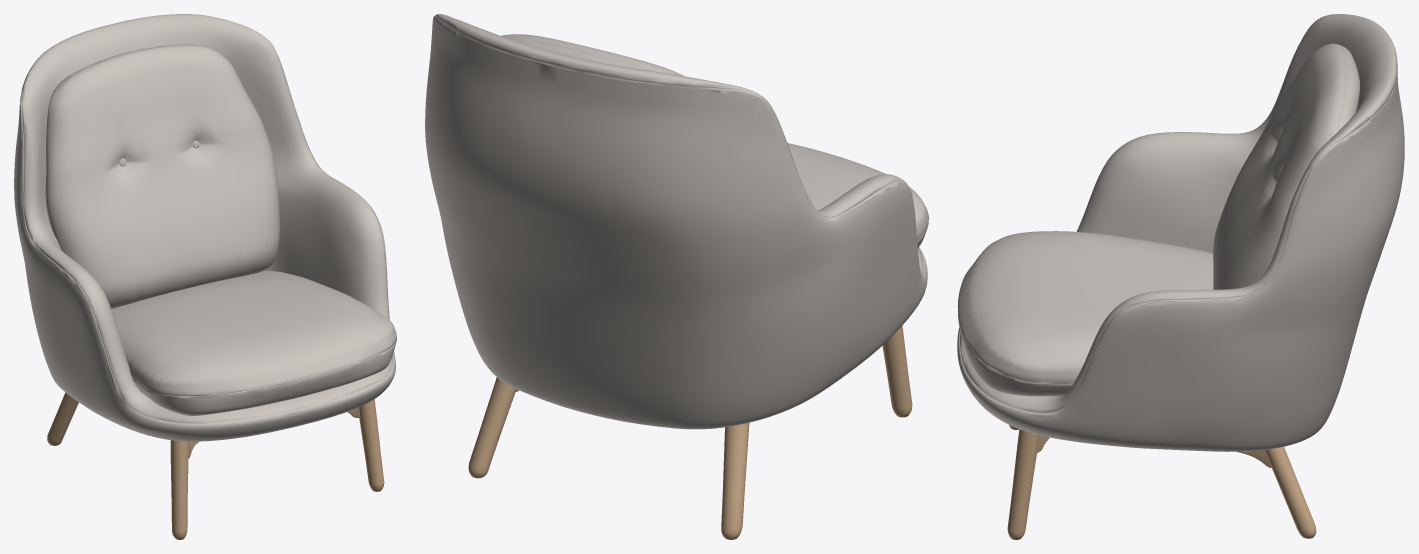
Rendered from Furniture_Chairs-Stools-Benches_Fritz-Hansen_FriT-JH5.fbx.
3 renders of one model, left to right at view 1: azimuth 30°, elevation 25°; view 2: azimuth 150°, elevation 25°; view 3: azimuth 270°, elevation 25°, orthographic. The views are drawn at different scales.
Visible parts, largest first — view 1: L_9fd0929b_cdbd_487e_abf8_d2363f502fa5_I3, L_c6a61b16_46f8_4edf_bbbb_90fc4b942664_I5, L_354efbe4_8bc5_49fc_a93b_d44e2bf587e4_I1, L_b5cb5176_5f5f_49d2_ba3b_dbee73c6712c_I4; view 2: L_9fd0929b_cdbd_487e_abf8_d2363f502fa5_I3, L_b5cb5176_5f5f_49d2_ba3b_dbee73c6712c_I4, L_354efbe4_8bc5_49fc_a93b_d44e2bf587e4_I1, L_c6a61b16_46f8_4edf_bbbb_90fc4b942664_I5; view 3: L_9fd0929b_cdbd_487e_abf8_d2363f502fa5_I3, L_354efbe4_8bc5_49fc_a93b_d44e2bf587e4_I1, L_c6a61b16_46f8_4edf_bbbb_90fc4b942664_I5, L_b5cb5176_5f5f_49d2_ba3b_dbee73c6712c_I4.
Part boxes in pixels (<box>): L_9fd0929b_cdbd_487e_abf8_d2363f502fa5_I3: <box>14,14,395,441</box>; L_c6a61b16_46f8_4edf_bbbb_90fc4b942664_I5: <box>45,44,279,308</box>; L_354efbe4_8bc5_49fc_a93b_d44e2bf587e4_I1: <box>111,270,396,415</box>; L_b5cb5176_5f5f_49d2_ba3b_dbee73c6712c_I4: <box>47,392,384,539</box>; L_9fd0929b_cdbd_487e_abf8_d2363f502fa5_I3: <box>425,14,927,429</box>; L_b5cb5176_5f5f_49d2_ba3b_dbee73c6712c_I4: <box>468,325,912,539</box>; L_354efbe4_8bc5_49fc_a93b_d44e2bf587e4_I1: <box>787,143,928,248</box>; L_c6a61b16_46f8_4edf_bbbb_90fc4b942664_I5: <box>501,34,684,76</box>; L_9fd0929b_cdbd_487e_abf8_d2363f502fa5_I3: <box>957,14,1404,451</box>; L_354efbe4_8bc5_49fc_a93b_d44e2bf587e4_I1: <box>957,231,1213,396</box>; L_c6a61b16_46f8_4edf_bbbb_90fc4b942664_I5: <box>1213,43,1360,289</box>; L_b5cb5176_5f5f_49d2_ba3b_dbee73c6712c_I4: <box>1007,425,1316,539</box>.
Size of the model in its own units: 80.19 by 89.88 by 93.54.
